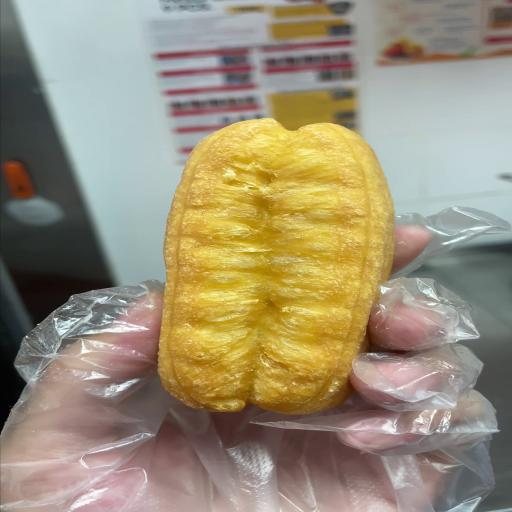brand_golden_good: (159, 119, 393, 414)
